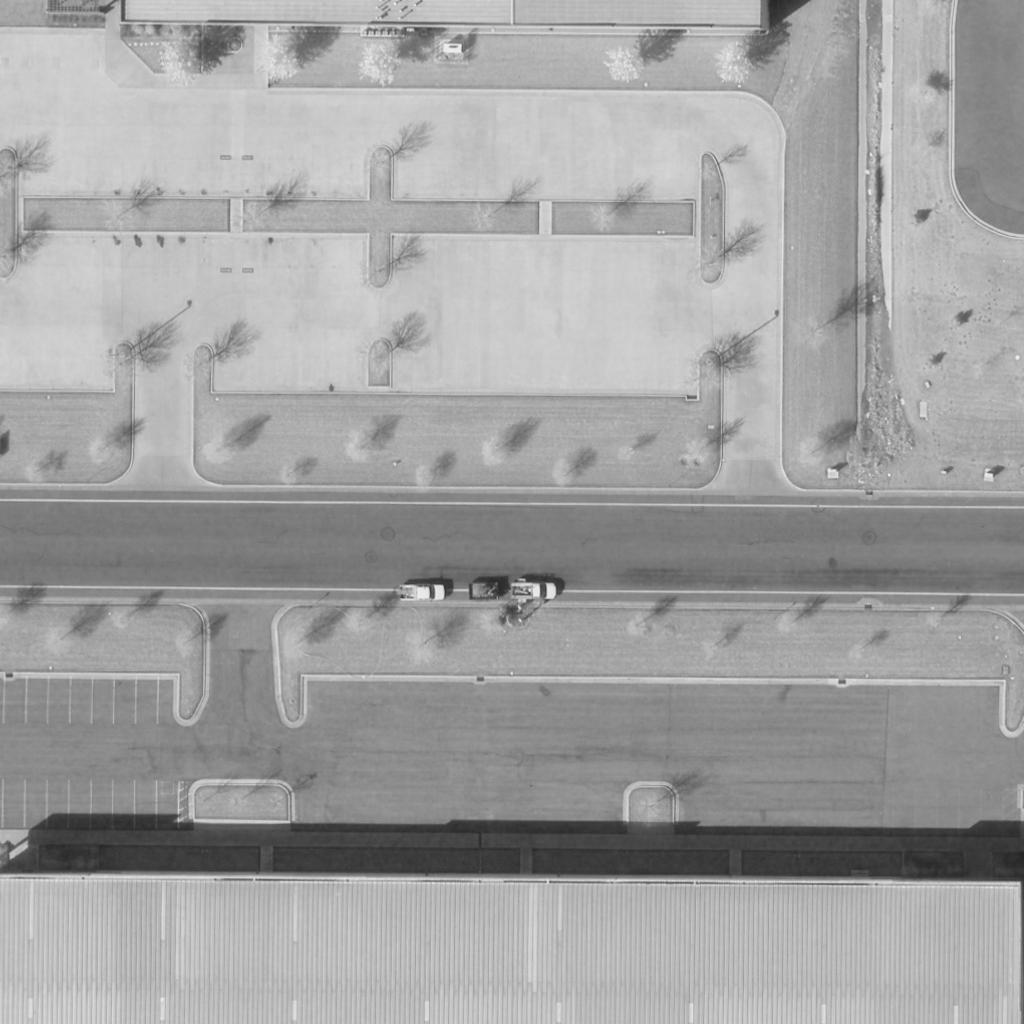vehicle: (397, 583, 449, 605), (510, 582, 556, 602)
